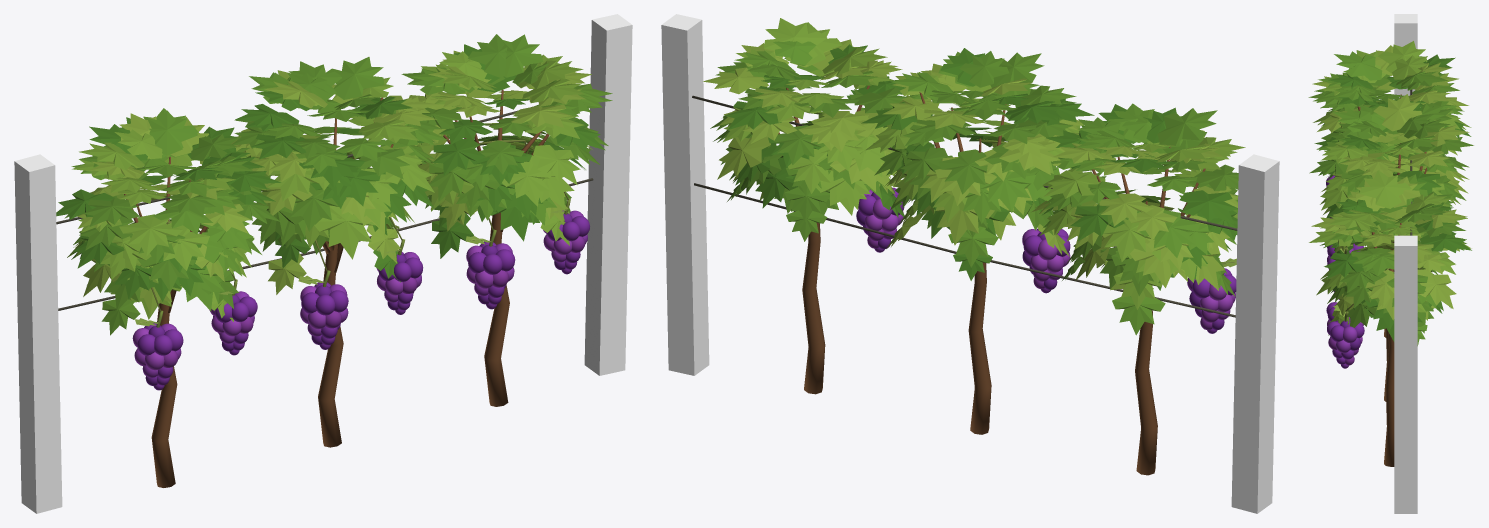
Rendered from grape_vine.glb.
3 renders of one model, left to right at view 1: azimuth 30°, elevation 25°; view 2: azimuth 150°, elevation 25°; view 3: azimuth 270°, elevation 25°, orthographic. The views are drawn at different scales.
Parts seen in each view (by area): view 1: Plant_1, Plant_2, Plant_3, End_post_-1, End_post_1, Plant_2_trunk, Harvest_Plant2_Cluster1, Harvest_Plant3_Cluster1, Harvest_Plant1_Cluster1, Plant_3_trunk, Plant_1_trunk, Harvest_Plant1_Cluster2 (+2 smaller); view 2: Plant_2, Plant_1, Plant_3, End_post_1, End_post_-1, Plant_2_trunk, Plant_3_trunk, Plant_1_trunk, Harvest_Plant2_Cluster1, Harvest_Plant1_Cluster1, Harvest_Plant3_Cluster1, Support_wire; view 3: Plant_3, Plant_2, Plant_1, End_post_1, Harvest_Plant3_Cluster2, Plant_3_trunk, End_post_-1.
Boxes of the visible parts, x1,y1,x2,y2 form: Plant_1: (56,108,281,335); Plant_2: (231,57,447,294); Plant_3: (401,34,612,258); End_post_-1: (14,154,62,513); End_post_1: (584,14,632,375); Plant_2_trunk: (318,244,343,447); Harvest_Plant2_Cluster1: (300,281,348,345); Harvest_Plant3_Cluster1: (466,241,515,304); Harvest_Plant1_Cluster1: (132,323,183,385); Plant_3_trunk: (484,212,509,406); Plant_1_trunk: (151,291,177,487); Harvest_Plant1_Cluster2: (209,291,257,351); Plant_2: (861,48,1094,280); Plant_1: (1031,103,1245,335); Plant_3: (703,18,907,241); End_post_1: (661,14,709,375); End_post_-1: (1231,154,1279,513); Plant_2_trunk: (968,262,991,434); Plant_3_trunk: (802,222,825,394); Plant_1_trunk: (1135,310,1157,475); Harvest_Plant2_Cluster1: (1022,228,1070,289); Harvest_Plant1_Cluster1: (1187,268,1236,330); Harvest_Plant3_Cluster1: (856,187,904,249); Support_wire: (694,183,1235,317); Plant_3: (1309,170,1471,345); Plant_2: (1309,94,1473,254); Plant_1: (1308,41,1471,179); End_post_1: (1394,235,1417,513); Harvest_Plant3_Cluster2: (1327,319,1364,365); Plant_3_trunk: (1384,268,1394,466); End_post_-1: (1394,14,1417,99).
Bounding box in the file's own units: 3.05 × 1.75 × 0.9236.
